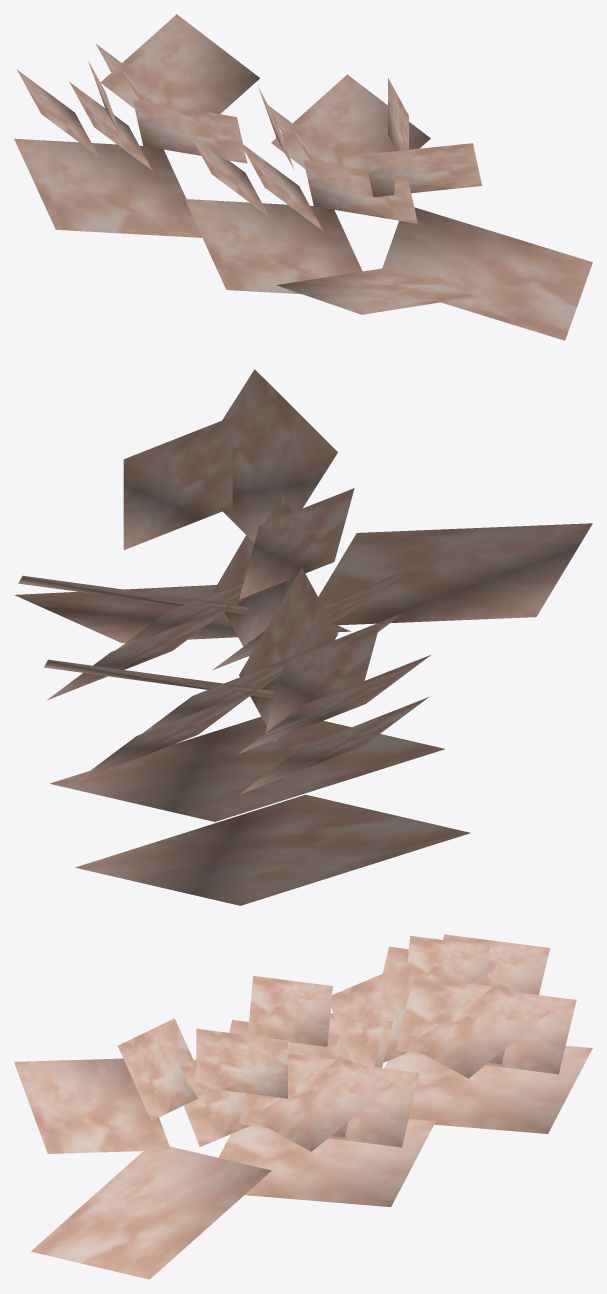
The model's file is stg220_MotCloud_01.obj.
3 views of the same model, one above another, from view 1: azimuth 30°, elevation 25°; view 2: azimuth 150°, elevation 25°; view 3: azimuth 270°, elevation 25° (orthographic). The views are drawn at different scales.
Visible parts, largest first — view 1: polygon10, polygon18, polygon9, polygon12, polygon2, polygon11, polygon0, polygon19, polygon1, polygon3, polygon17, polygon13 (+2 smaller); view 2: polygon18, polygon11, polygon9, polygon0, polygon4, polygon6, polygon10, polygon15, polygon19, polygon1, polygon13, polygon17 (+7 smaller); view 3: polygon10, polygon9, polygon11, polygon18, polygon12, polygon2, polygon4, polygon19, polygon6, polygon0, polygon5, polygon14 (+8 smaller).
Boxes of the visible parts, x1,y1,x2,y2 form: polygon10: (382, 207, 592, 340); polygon18: (14, 138, 202, 237); polygon9: (184, 199, 362, 294); polygon12: (100, 14, 259, 146); polygon2: (271, 74, 430, 206); polygon11: (276, 267, 476, 314); polygon0: (364, 143, 481, 197); polygon19: (133, 99, 247, 163); polygon1: (303, 159, 417, 223); polygon3: (240, 142, 323, 231); polygon17: (17, 69, 98, 156); polygon13: (69, 82, 152, 170); polygon18: (75, 794, 470, 905); polygon11: (318, 523, 592, 625); polygon9: (50, 717, 444, 821); polygon0: (222, 369, 337, 542); polygon4: (123, 416, 232, 549); polygon6: (239, 488, 354, 599); polygon10: (14, 585, 350, 642); polygon15: (265, 624, 379, 734); polygon19: (239, 568, 337, 741); polygon1: (213, 491, 295, 657); polygon13: (237, 654, 431, 754); polygon17: (239, 697, 428, 794); polygon10: (31, 1146, 271, 1279); polygon9: (218, 1119, 435, 1207); polygon11: (14, 1058, 170, 1153); polygon18: (384, 1046, 592, 1133); polygon12: (408, 974, 550, 1078); polygon2: (251, 1048, 393, 1151); polygon4: (196, 1028, 287, 1098); polygon19: (331, 962, 414, 1066); polygon6: (248, 976, 332, 1046); polygon0: (118, 1018, 197, 1120); polygon5: (329, 1065, 419, 1147); polygon14: (486, 992, 576, 1074).
Size of the model in its own units: 2905 by 1238 by 3474.
1 material, 1 textured.
